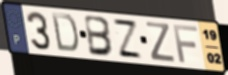3: (25, 10, 53, 51)
B: (83, 13, 116, 58)
D: (50, 11, 80, 55)
F: (171, 23, 199, 64)
Z: (111, 17, 145, 61), (145, 20, 176, 64)
